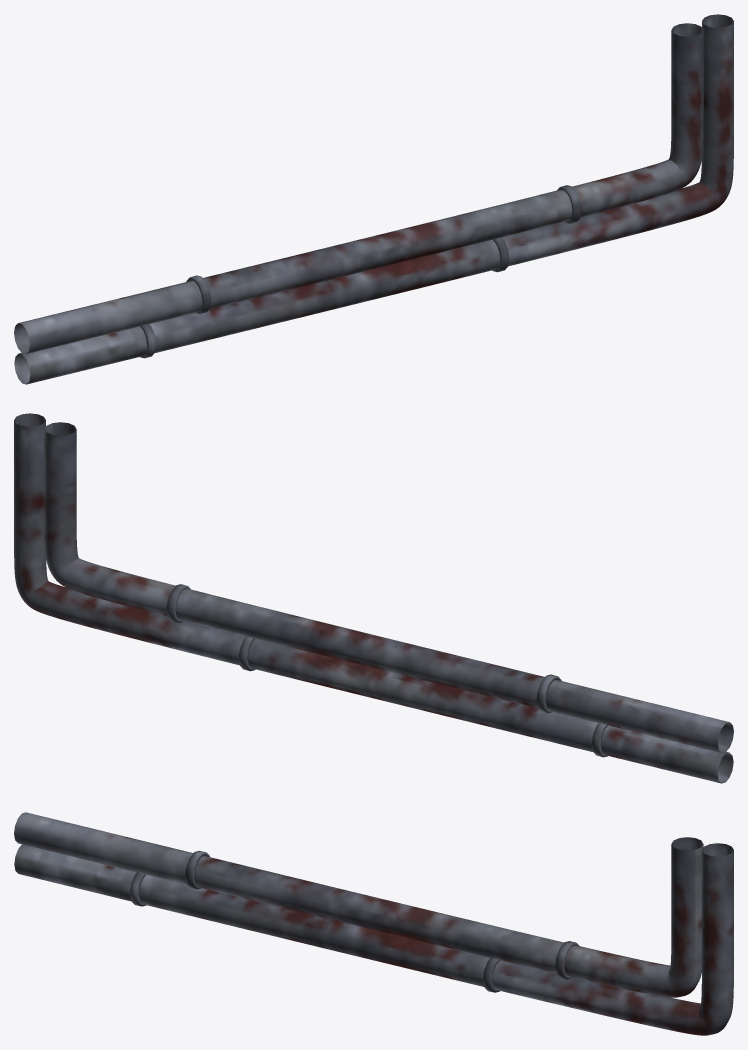
Rendered from small pipes 2.fbx.
3 renders of one model, top to bottom at view 1: azimuth 30°, elevation 25°; view 2: azimuth 150°, elevation 25°; view 3: azimuth 330°, elevation 25°, orthographic.
Visible parts, largest first — view 1: NurbsPath; view 2: NurbsPath; view 3: NurbsPath.
Boxes of the visible parts, x1=… form: NurbsPath: x1=14, y1=14, x2=733, y2=384; NurbsPath: x1=14, y1=413, x2=733, y2=783; NurbsPath: x1=14, y1=812, x2=733, y2=1035.
Size of the model in its own units: 670 by 176 by 31.28.
